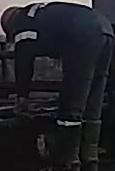gloves: (10, 94, 33, 119)
helmet: (0, 5, 22, 45)
vest: (13, 1, 114, 60)
